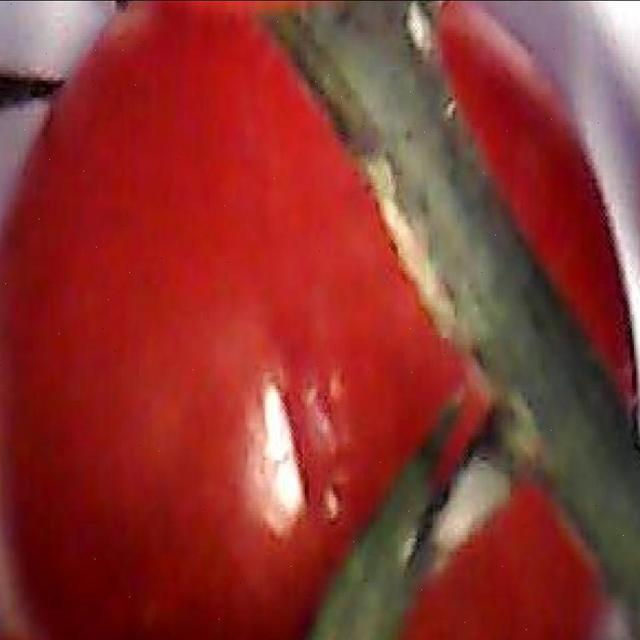Healthy Fruit: (0, 18, 396, 426)
